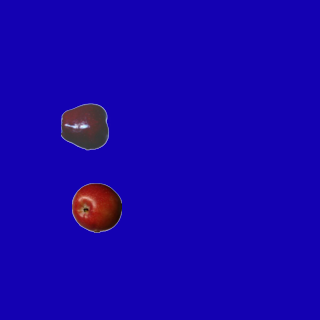Apple Braeburn: (71, 182, 121, 232)
Apple Red Delicious: (60, 101, 110, 151)
